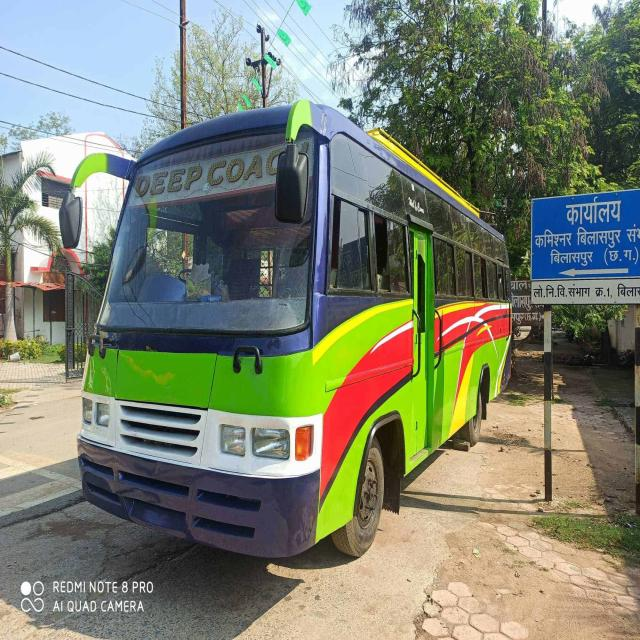bus: (57, 105, 512, 550)
